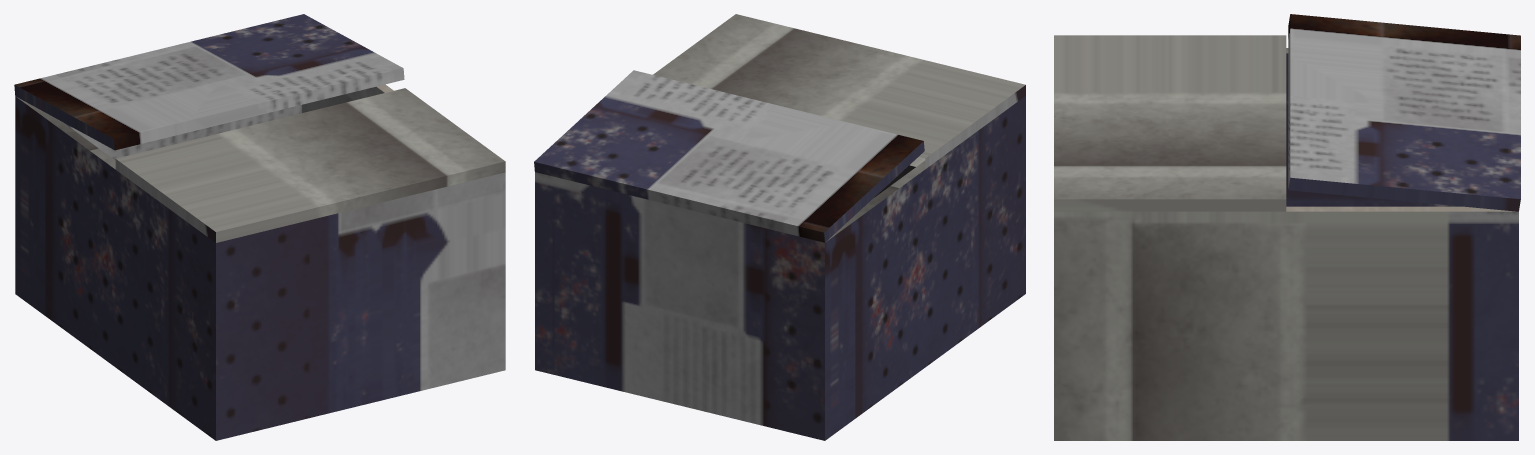
The picture shows the model from 3 angles, left to right: view 1: azimuth 30°, elevation 25°; view 2: azimuth 150°, elevation 25°; view 3: azimuth 270°, elevation 25°; orthographic projection. The views are drawn at different scales.
Parts seen in each view (by area): view 1: Box; view 2: Box; view 3: Box.
Part boxes in pixels (<box>): Box: <box>14,14,505,440</box>; Box: <box>534,14,1025,440</box>; Box: <box>1054,14,1520,440</box>.
Size of the model in its own units: 34.26 by 25.7 by 41.3.
